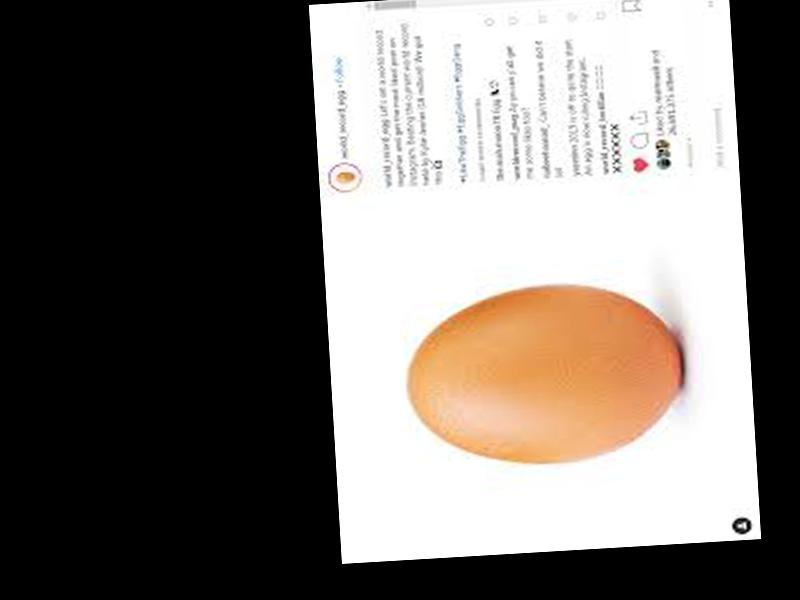Eggs: (403, 278, 684, 471)
